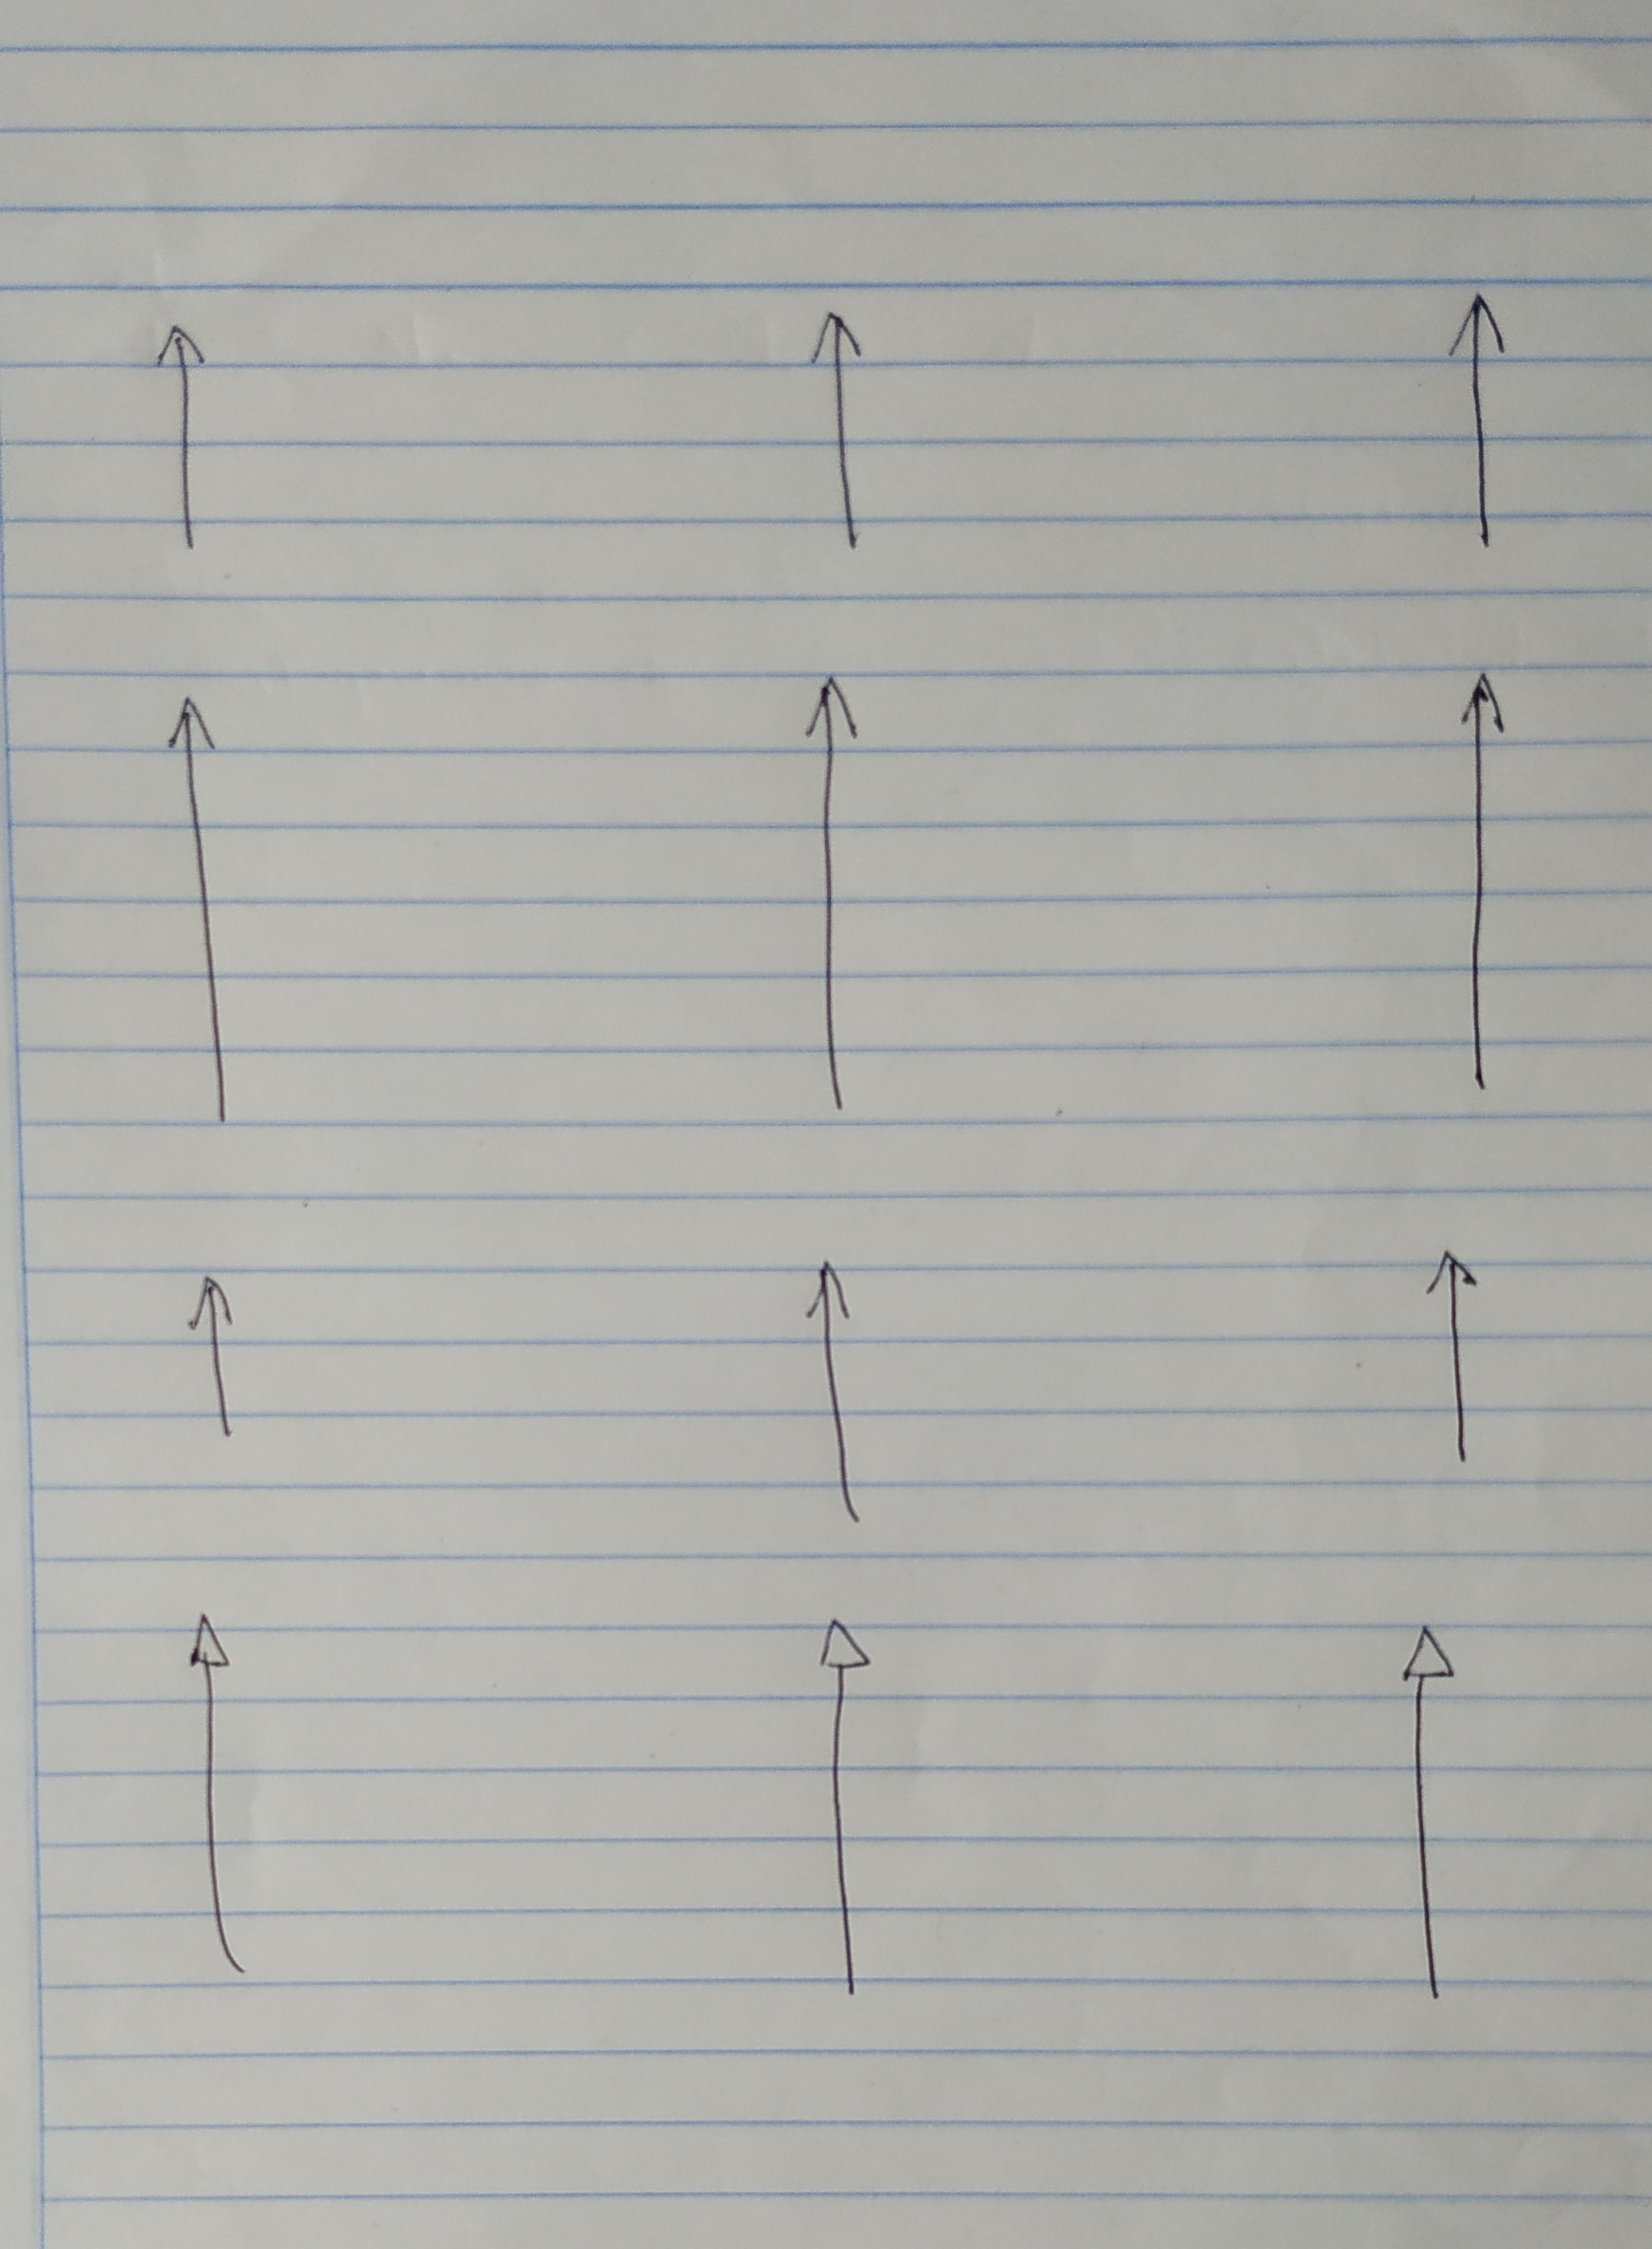arrow_line_up: (155, 688, 257, 1140), (798, 674, 873, 1118), (1449, 665, 1519, 1111), (178, 1608, 258, 1984), (812, 1619, 885, 2005), (1395, 1613, 1462, 2006), (1441, 292, 1525, 559), (800, 1254, 875, 1531), (145, 321, 225, 559), (807, 307, 884, 555), (1420, 1247, 1483, 1475), (182, 1273, 248, 1453)
